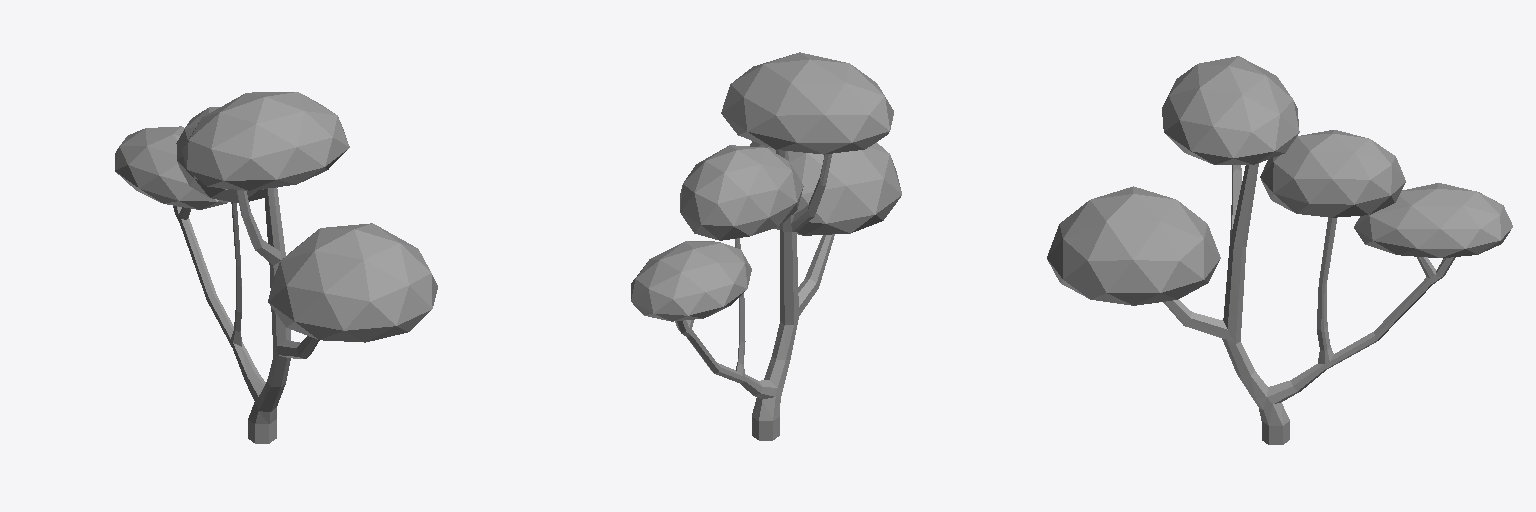
The model's file is Tree4.obj.
The picture shows the model from 3 angles: view 1: azimuth 30°, elevation 25°; view 2: azimuth 150°, elevation 25°; view 3: azimuth 270°, elevation 25°; orthographic projection.
Visible parts, largest first — view 1: Cylinder.002_Cylinder.003; view 2: Cylinder.002_Cylinder.003; view 3: Cylinder.002_Cylinder.003.
Part boxes in pixels (x1,y1,x2,y2): Cylinder.002_Cylinder.003: (115,92,437,443); Cylinder.002_Cylinder.003: (631,52,901,440); Cylinder.002_Cylinder.003: (1047,56,1512,444).
Size of the model in its own units: 1.7 by 3.08 by 3.59.